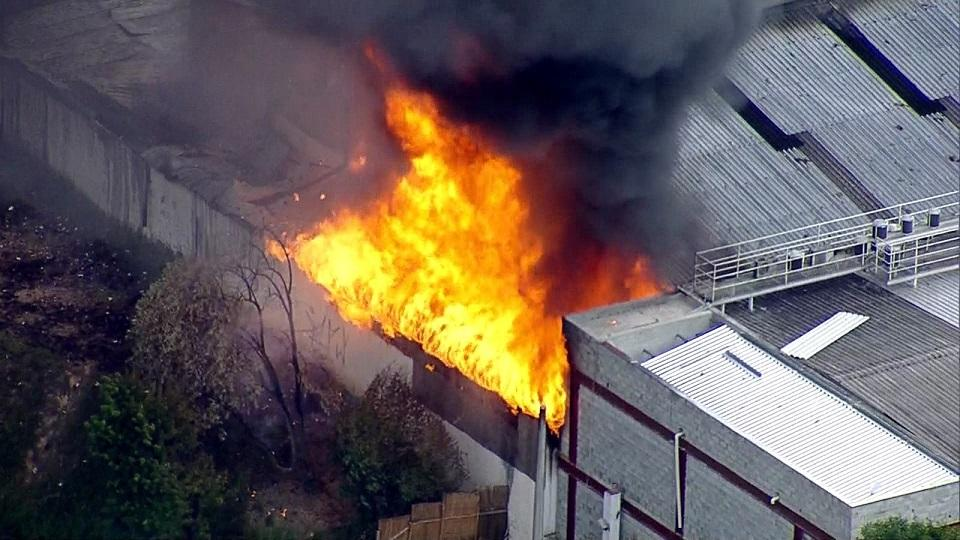fire: (365, 152, 522, 385), (524, 333, 568, 415), (312, 235, 364, 284)
smoke: (443, 0, 703, 115), (545, 124, 679, 248)
